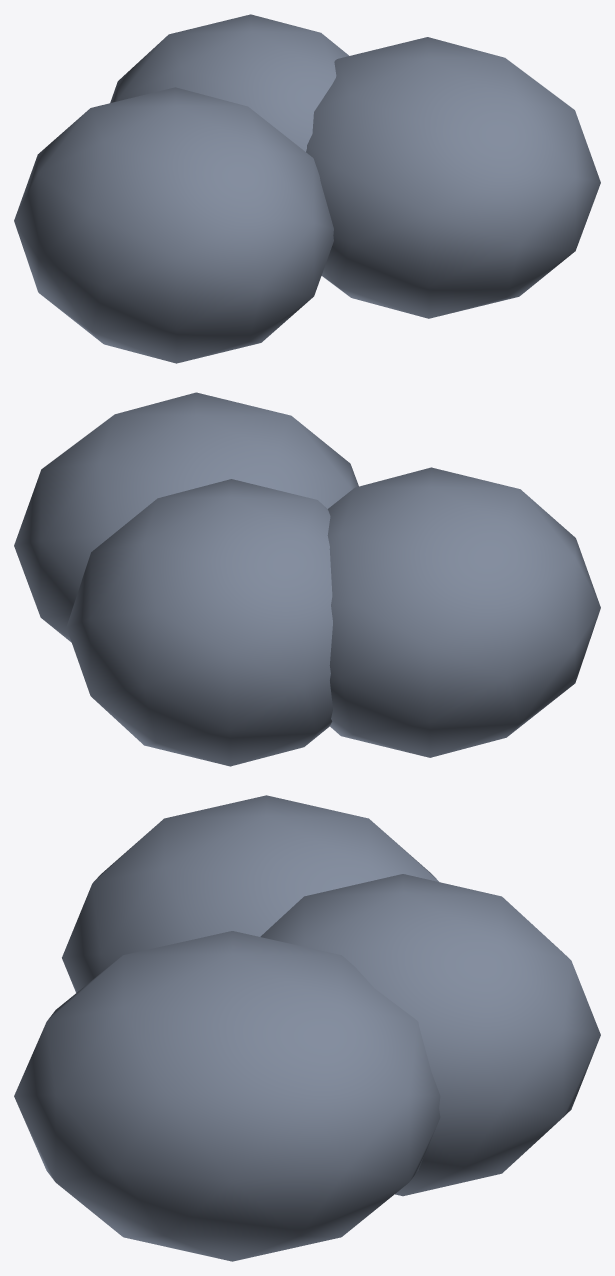
The model's file is garden-shrub-low-lite.glb.
3 views of the same model, one above another, from view 1: azimuth 30°, elevation 25°; view 2: azimuth 150°, elevation 25°; view 3: azimuth 270°, elevation 25° (orthographic). The views are drawn at different scales.
Visible parts, largest first — view 1: garden-shrub-low; view 2: garden-shrub-low; view 3: garden-shrub-low.
Part boxes in pixels (box(x1,y1,x2,y2)): garden-shrub-low: box(14, 14, 600, 363); garden-shrub-low: box(14, 392, 600, 766); garden-shrub-low: box(14, 795, 600, 1261).
Bounding box in the file's own units: 1.1 × 0.48 × 0.9.
